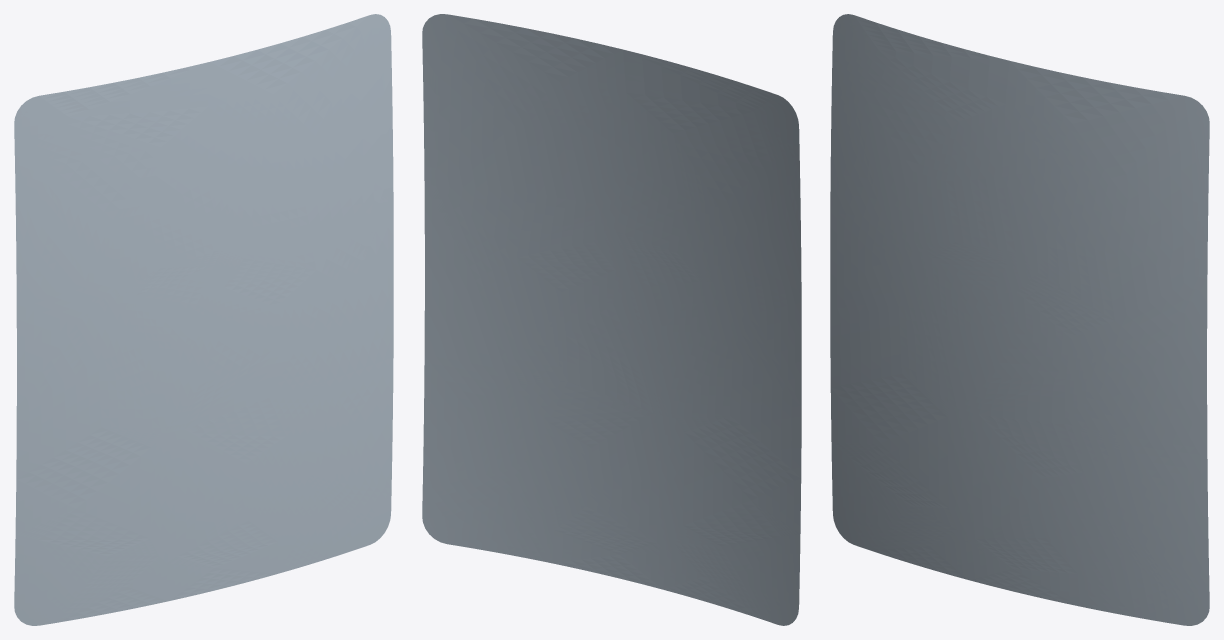
The model's file is ShieldBreak_Hydro_CurvedMembranePatches.fbx.
3 renders of one model, left to right at view 1: azimuth 30°, elevation 25°; view 2: azimuth 150°, elevation 25°; view 3: azimuth 330°, elevation 25°, orthographic.
Visible parts, largest first — view 1: PART_CurvedMembrane_18_0, PART_CurvedMembrane_15_0, PART_CurvedMembrane_21_0, PART_CurvedMembrane_13_0, PART_CurvedMembrane_6_0, PART_CurvedMembrane_19_0, PART_CurvedMembrane_17_0, PART_CurvedMembrane_23_0, PART_CurvedMembrane_14_0, PART_CurvedMembrane_8_0, PART_CurvedMembrane_24_0, PART_CurvedMembrane_16_0 (+17 smaller); view 2: PART_CurvedMembrane_15_0, PART_CurvedMembrane_13_0, PART_CurvedMembrane_21_0, PART_CurvedMembrane_18_0, PART_CurvedMembrane_8_0, PART_CurvedMembrane_17_0, PART_CurvedMembrane_6_0, PART_CurvedMembrane_16_0, PART_CurvedMembrane_19_0, PART_CurvedMembrane_23_0, PART_CurvedMembrane_25_0, PART_CurvedMembrane_24_0 (+17 smaller); view 3: PART_CurvedMembrane_15_0, PART_CurvedMembrane_21_0, PART_CurvedMembrane_13_0, PART_CurvedMembrane_18_0, PART_CurvedMembrane_8_0, PART_CurvedMembrane_17_0, PART_CurvedMembrane_6_0, PART_CurvedMembrane_16_0, PART_CurvedMembrane_19_0, PART_CurvedMembrane_23_0, PART_CurvedMembrane_25_0, PART_CurvedMembrane_24_0 (+17 smaller).
Boxes of the visible parts, left/top/right/bottom form: PART_CurvedMembrane_18_0: left=14, top=62, right=209, bottom=166; PART_CurvedMembrane_15_0: left=297, top=187, right=393, bottom=381; PART_CurvedMembrane_21_0: left=208, top=15, right=369, bottom=145; PART_CurvedMembrane_13_0: left=242, top=136, right=383, bottom=269; PART_CurvedMembrane_6_0: left=16, top=362, right=161, bottom=479; PART_CurvedMembrane_19_0: left=15, top=447, right=151, bottom=539; PART_CurvedMembrane_17_0: left=149, top=107, right=255, bottom=247; PART_CurvedMembrane_23_0: left=50, top=147, right=160, bottom=288; PART_CurvedMembrane_14_0: left=16, top=281, right=120, bottom=408; PART_CurvedMembrane_8_0: left=315, top=14, right=393, bottom=189; PART_CurvedMembrane_24_0: left=150, top=429, right=241, bottom=563; PART_CurvedMembrane_16_0: left=319, top=357, right=393, bottom=488; PART_CurvedMembrane_15_0: left=424, top=185, right=537, bottom=369; PART_CurvedMembrane_13_0: left=436, top=125, right=595, bottom=257; PART_CurvedMembrane_21_0: left=447, top=14, right=626, bottom=131; PART_CurvedMembrane_18_0: left=623, top=49, right=799, bottom=162; PART_CurvedMembrane_8_0: left=422, top=14, right=514, bottom=185; PART_CurvedMembrane_17_0: left=579, top=93, right=685, bottom=231; PART_CurvedMembrane_6_0: left=675, top=350, right=801, bottom=477; PART_CurvedMembrane_16_0: left=422, top=355, right=511, bottom=489; PART_CurvedMembrane_19_0: left=683, top=433, right=801, bottom=536; PART_CurvedMembrane_23_0: left=673, top=134, right=771, bottom=275; PART_CurvedMembrane_25_0: left=505, top=332, right=652, bottom=422; PART_CurvedMembrane_24_0: left=594, top=413, right=684, bottom=550; PART_CurvedMembrane_15_0: left=1094, top=276, right=1207, bottom=448; PART_CurvedMembrane_21_0: left=1005, top=60, right=1184, bottom=187; PART_CurvedMembrane_13_0: left=1036, top=167, right=1195, bottom=320; PART_CurvedMembrane_18_0: left=832, top=14, right=1008, bottom=121; PART_CurvedMembrane_8_0: left=1117, top=96, right=1209, bottom=278; PART_CurvedMembrane_17_0: left=945, top=104, right=1052, bottom=251; PART_CurvedMembrane_6_0: left=830, top=306, right=956, bottom=416; PART_CurvedMembrane_16_0: left=1120, top=437, right=1209, bottom=579; PART_CurvedMembrane_19_0: left=830, top=387, right=948, bottom=507; PART_CurvedMembrane_23_0: left=860, top=90, right=958, bottom=241; PART_CurvedMembrane_25_0: left=979, top=379, right=1126, bottom=471; PART_CurvedMembrane_24_0: left=947, top=408, right=1037, bottom=540.
Size of the model in its own units: 297 by 399 by 17.8.
